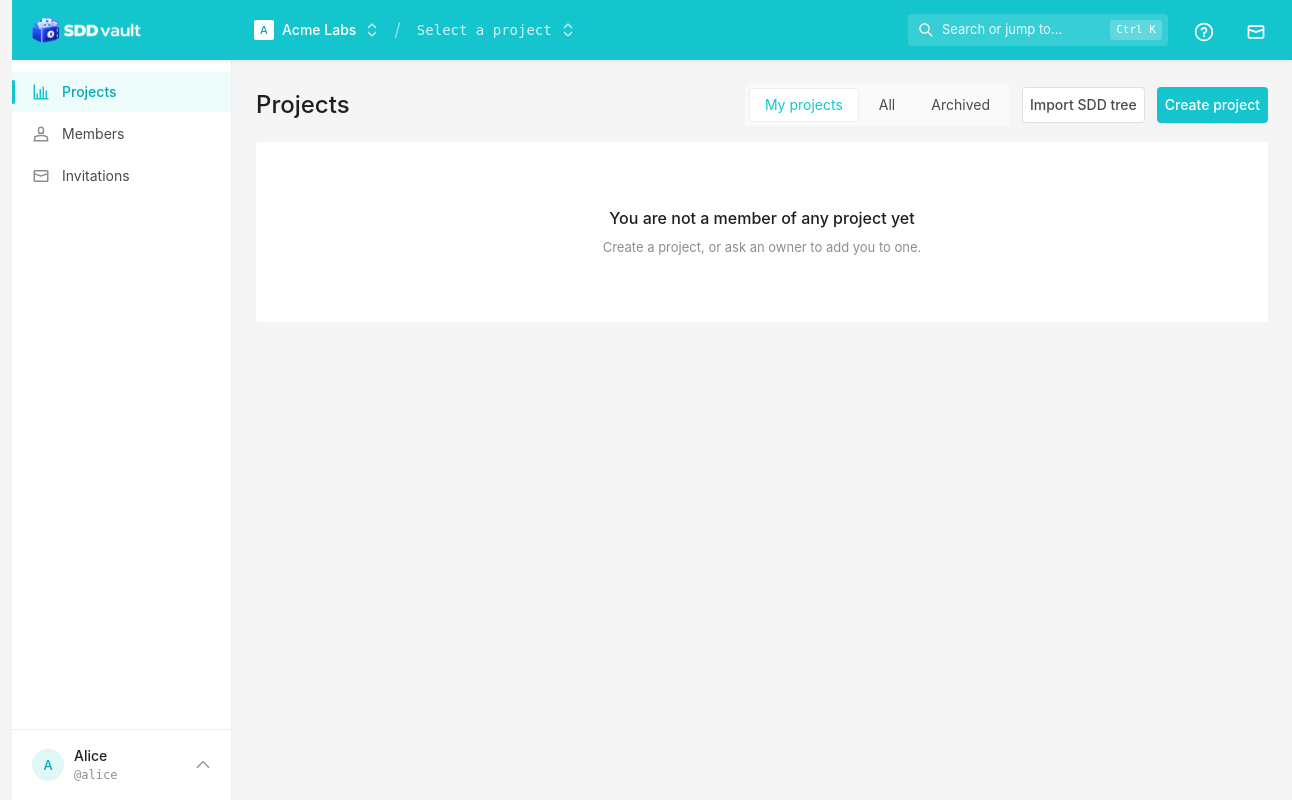
the All filter of an organization without projects invites to create the first one
Click the tab "All".
click(887, 104)  # box [879,96,895,113]
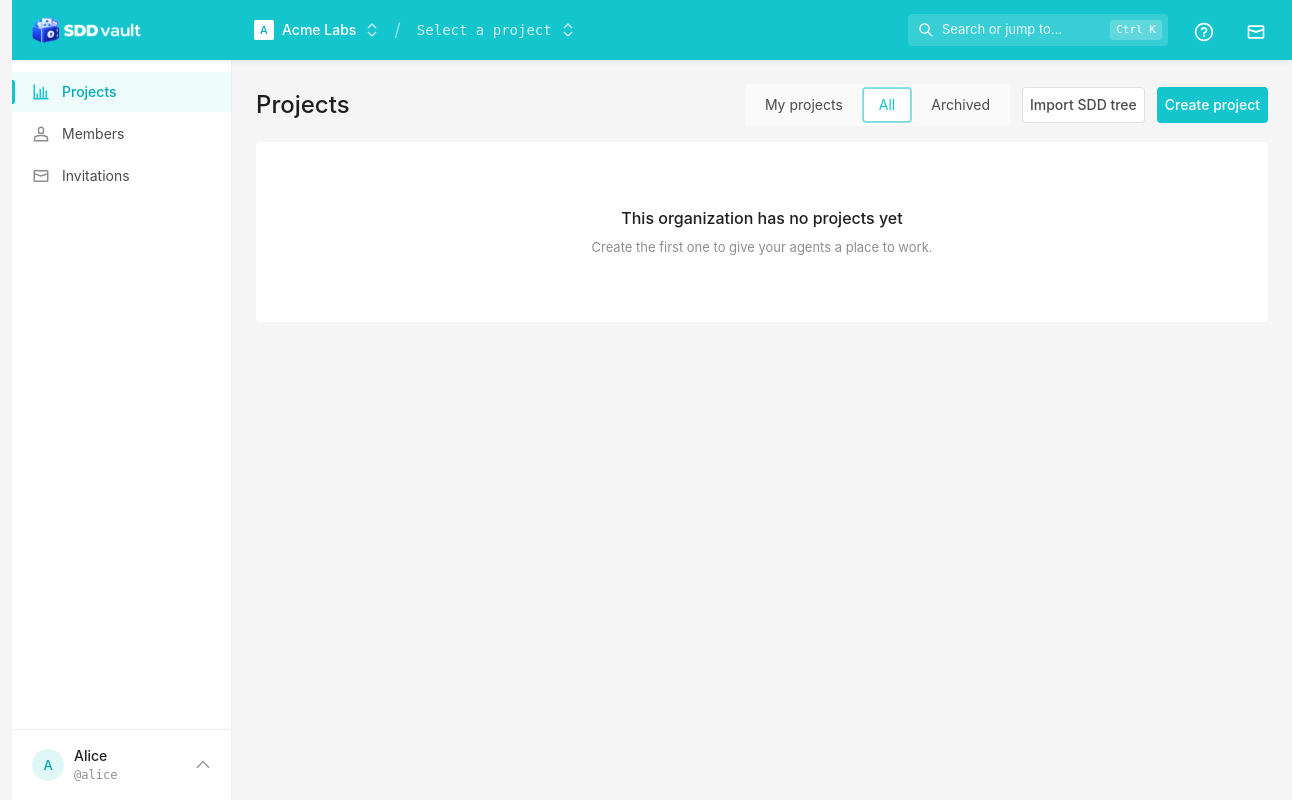
Expected: the text "This organization has no projects yet" is shown, [621,206,903,230]
